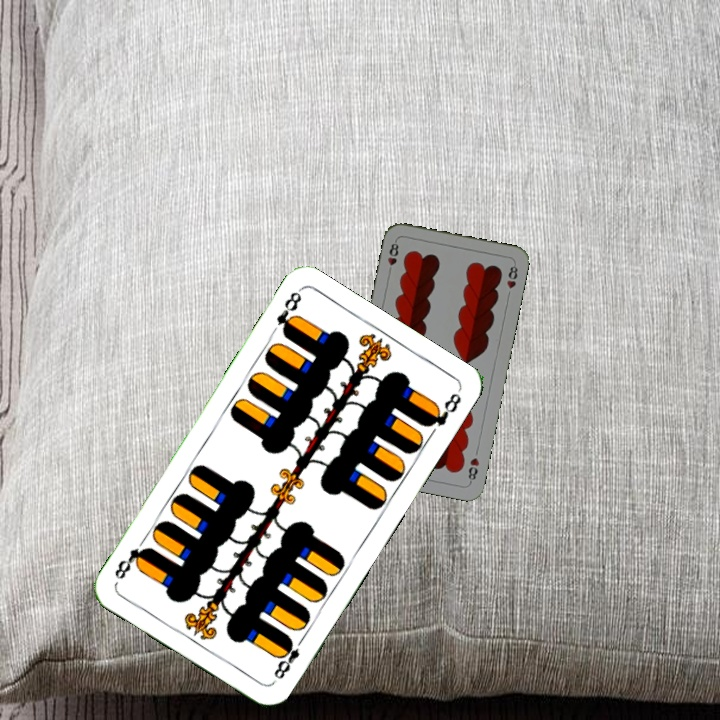E8: (269, 632, 308, 682), (272, 286, 304, 340)
H8: (384, 236, 401, 277), (464, 453, 482, 485)
